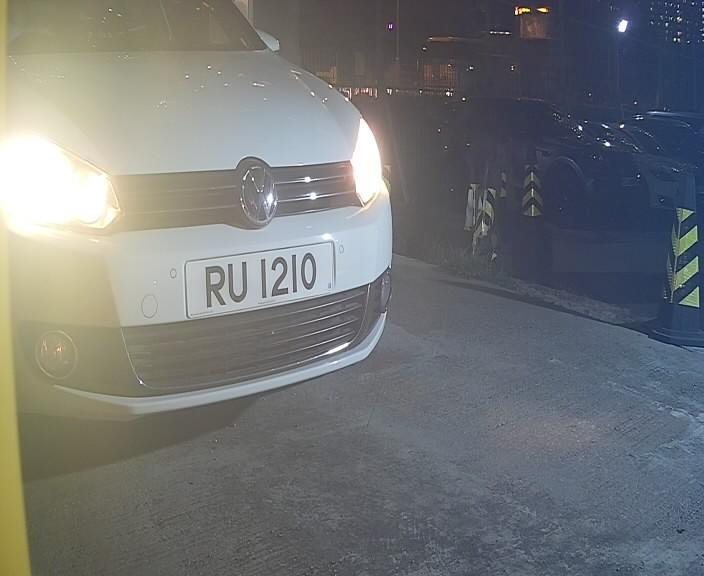Car: (13, 19, 513, 448)
License Plate: (180, 232, 334, 319)
